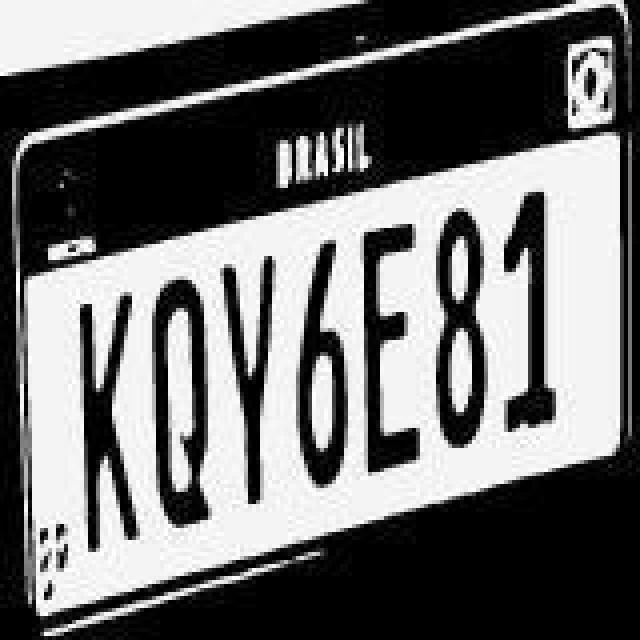1: (500, 192, 572, 440)
6: (294, 228, 354, 492)
8: (426, 210, 494, 454)
E: (358, 216, 426, 480)
K: (76, 268, 140, 556)
Q: (144, 250, 216, 526)
Y: (220, 244, 292, 516)
